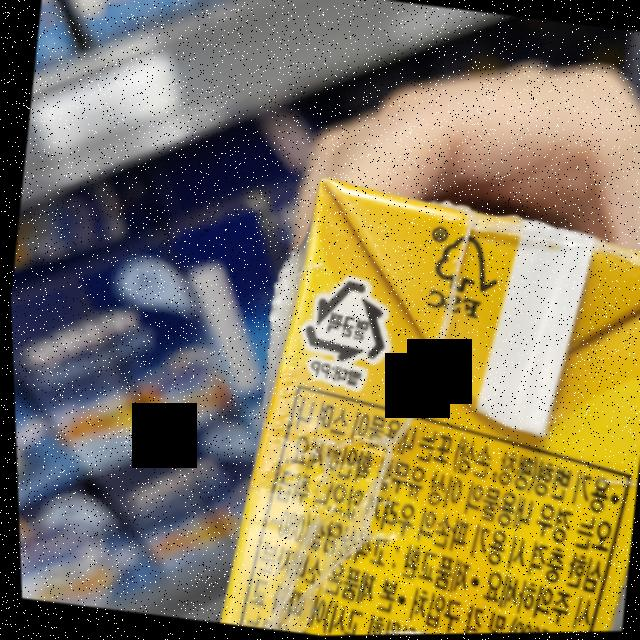SterilizedPack: (296, 270, 397, 371)
